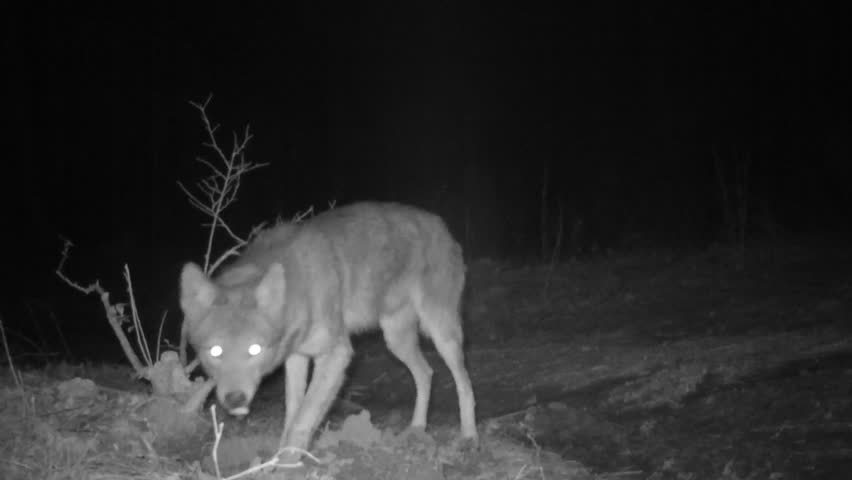coyote: (167, 188, 492, 457)
